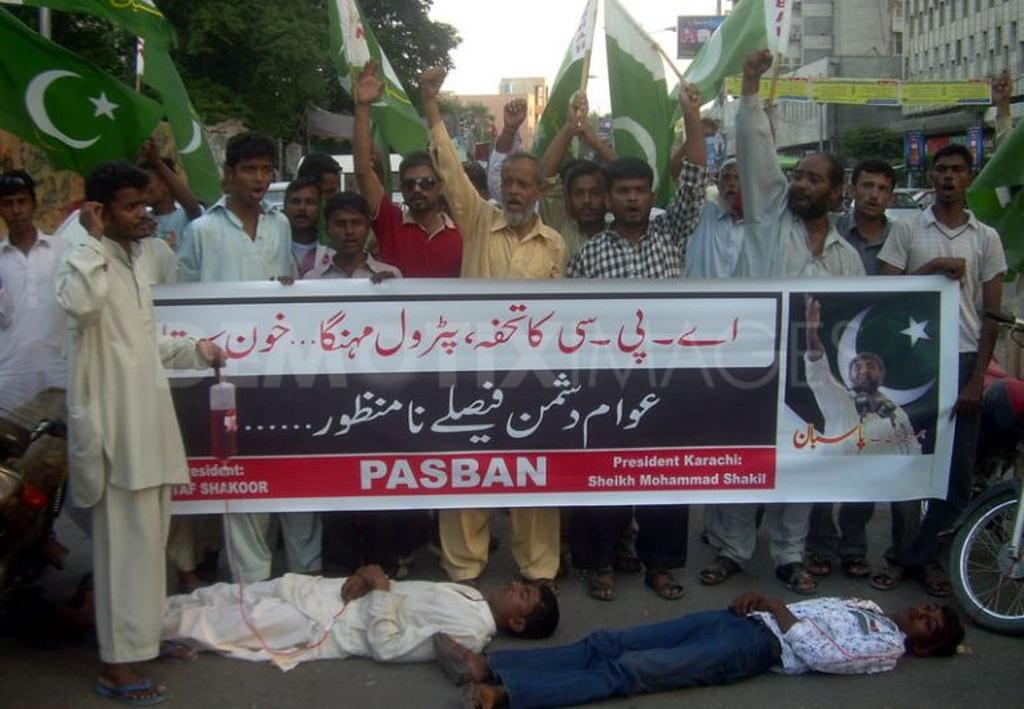face: (790, 163, 831, 210), (112, 191, 151, 238), (236, 157, 273, 203), (613, 181, 650, 226), (329, 212, 367, 255), (857, 173, 892, 218), (899, 604, 944, 639), (502, 167, 536, 212), (933, 152, 967, 197), (494, 582, 541, 612), (404, 171, 438, 209), (288, 191, 321, 229), (572, 182, 603, 222), (3, 193, 33, 233), (719, 167, 741, 202), (143, 169, 164, 205), (852, 362, 880, 387), (321, 178, 340, 202)
